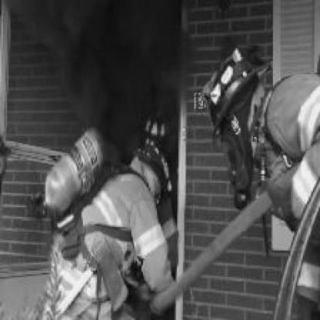other: (133, 144, 169, 198)
